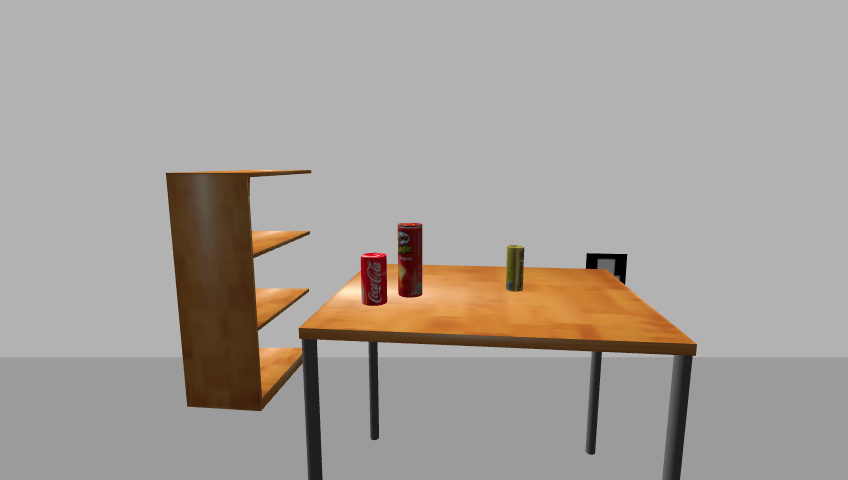aruco marker: (582, 252, 631, 288)
biscuits pack: (505, 245, 526, 293)
bookshelf: (161, 167, 318, 413)
coke can: (359, 253, 388, 307)
dinner table: (292, 263, 705, 479)
pringles can: (396, 222, 425, 300)
